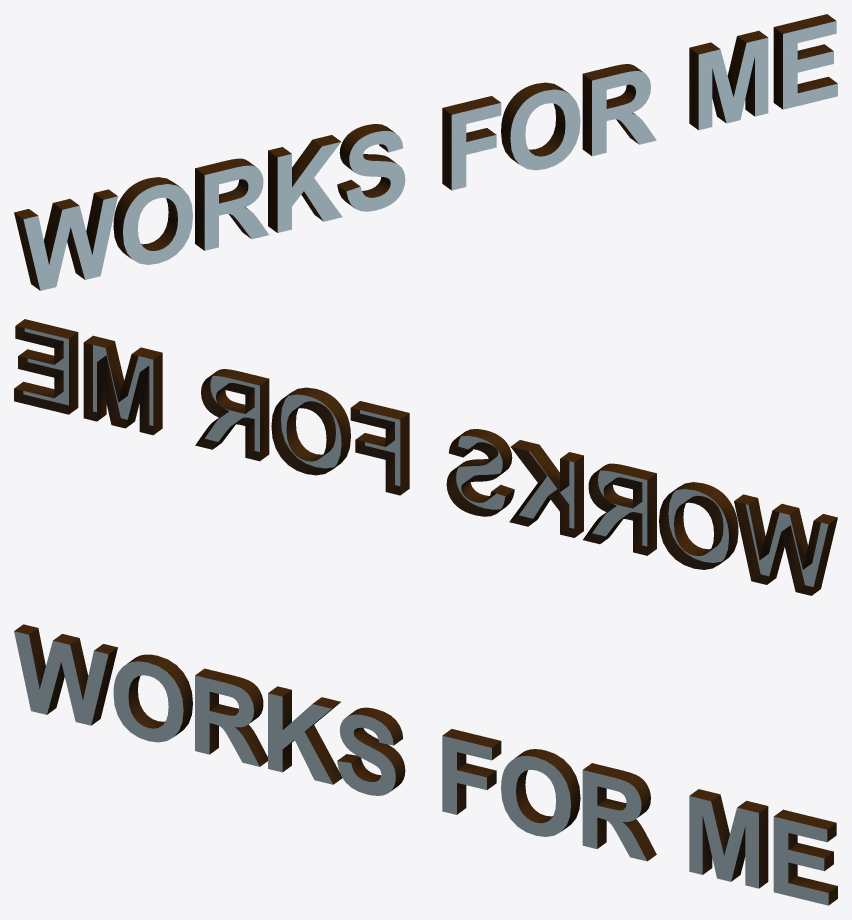
Rendered from Drawer_Label_A.FBX.
3 renders of one model, top to bottom at view 1: azimuth 30°, elevation 25°; view 2: azimuth 150°, elevation 25°; view 3: azimuth 330°, elevation 25°, orthographic.
Visible parts, largest first — view 1: Works_for_me; view 2: Works_for_me; view 3: Works_for_me.
Part boxes in pixels (x1,y1,x2,y2): Works_for_me: [14, 14, 837, 290]; Works_for_me: [14, 319, 837, 595]; Works_for_me: [14, 624, 837, 905].
Size of the model in its own units: 24.89 by 2.29 by 0.5.
